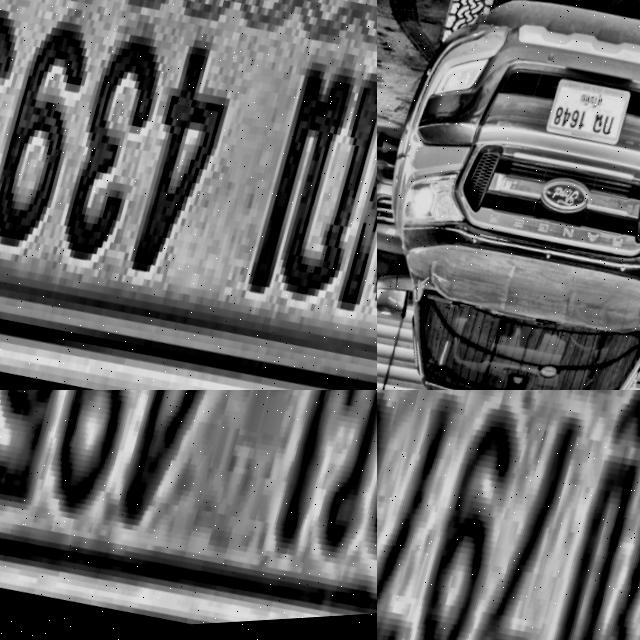license-plate: (0, 0, 377, 390), (0, 390, 377, 640), (377, 390, 640, 640), (543, 76, 633, 156)
